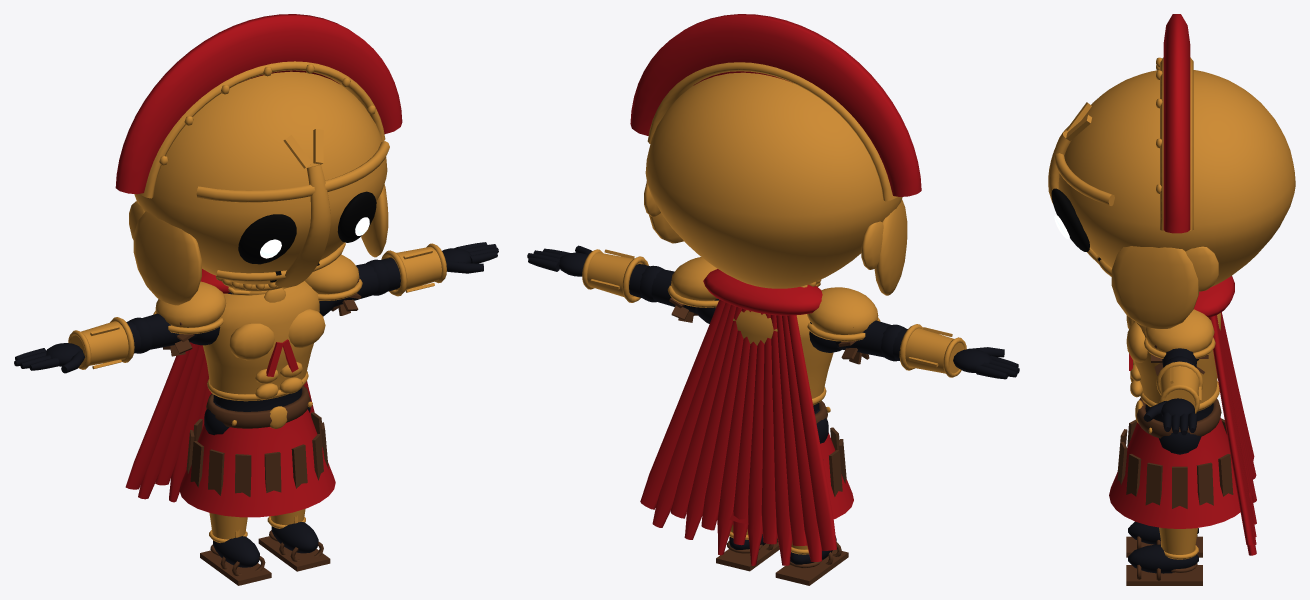
The model's file is personaje_espartano_body.fbx.
3 renders of one model, left to right at view 1: azimuth 30°, elevation 25°; view 2: azimuth 150°, elevation 25°; view 3: azimuth 270°, elevation 25°, orthographic. The views are drawn at different scales.
Visible parts, largest first — view 1: Helmet, Crest, Cuirass, Skirt, Cloak, SkirtStrips, CrestBase, EyeHoles, Arm_R, Arm_L, Pauldron_R, Bracer_R (+9 smaller); view 2: Helmet, Cloak, Crest, CrestBase, CloakMantle, Arm_R, Pauldron_R, Arm_L, Bracer_R, Cuirass, Bracer_L, Pauldron_L (+5 smaller); view 3: Helmet, Skirt, Crest, Cloak, SkirtStrips, Cuirass, Pauldron_L, Arm_L, Bracer_L, CrestBase, Sandal_L, Leg_L (+7 smaller).
Boxes of the visible parts, <box> form: Helmet: <box>129,71,389,305</box>; Crest: <box>115,14,402,194</box>; Cuirass: <box>203,281,325,401</box>; Skirt: <box>179,409,335,517</box>; Cloak: <box>125,342,314,502</box>; SkirtStrips: <box>186,412,328,496</box>; CrestBase: <box>139,61,385,198</box>; EyeHoles: <box>238,191,376,282</box>; Arm_R: <box>14,313,197,373</box>; Arm_L: <box>333,242,498,307</box>; Pauldron_R: <box>153,281,226,334</box>; Bracer_R: <box>68,317,134,369</box>; Helmet: <box>644,72,907,295</box>; Cloak: <box>640,299,836,565</box>; Crest: <box>630,14,921,196</box>; CrestBase: <box>647,62,897,201</box>; CloakMantle: <box>703,269,822,315</box>; Arm_R: <box>835,320,1019,379</box>; Pauldron_R: <box>807,287,880,341</box>; Arm_L: <box>527,245,697,313</box>; Bracer_R: <box>899,324,966,377</box>; Cuirass: <box>715,287,833,405</box>; Bracer_L: <box>582,249,648,302</box>; Pauldron_L: <box>668,257,718,307</box>; Helmet: <box>1048,70,1295,329</box>; Skirt: <box>1109,417,1250,528</box>; Crest: <box>1163,14,1190,233</box>; Cloak: <box>1209,312,1256,555</box>; SkirtStrips: <box>1117,418,1233,508</box>; Cuirass: <box>1126,313,1220,411</box>; Pauldron_L: <box>1144,309,1215,358</box>; Arm_L: <box>1143,348,1197,435</box>; Bracer_L: <box>1156,361,1203,413</box>; CrestBase: <box>1156,57,1193,230</box>; Sandal_L: <box>1126,563,1202,585</box>; Leg_L: <box>1128,452,1198,573</box>.
Bounding box in the file's own units: 95 × 102 × 42.69.
